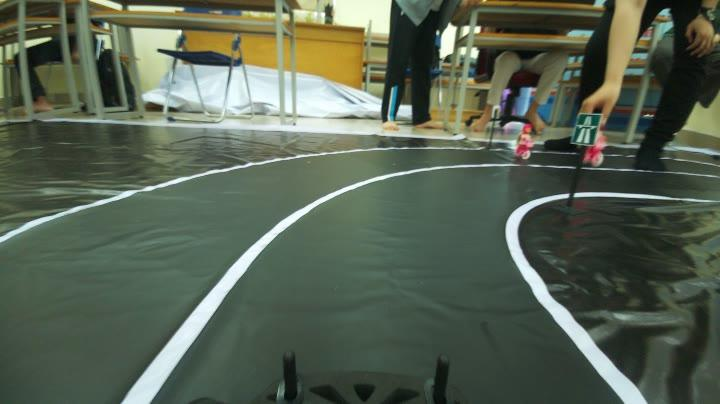highway_entry: (574, 110, 600, 151)
